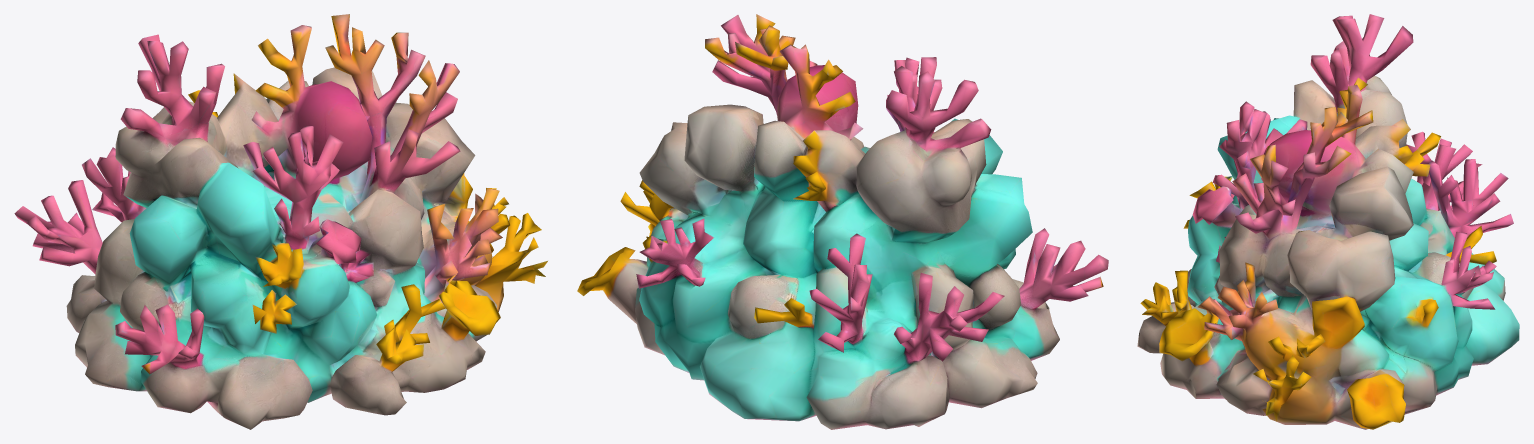
File: coral_reef.glb
3 renders of one model, left to right at view 1: azimuth 30°, elevation 25°; view 2: azimuth 150°, elevation 25°; view 3: azimuth 270°, elevation 25°, orthographic. The views are drawn at different scales.
Bounding box in the file's own units: 1.91 × 1.26 × 1.53.
Materials: 1 (1 with a texture image).
